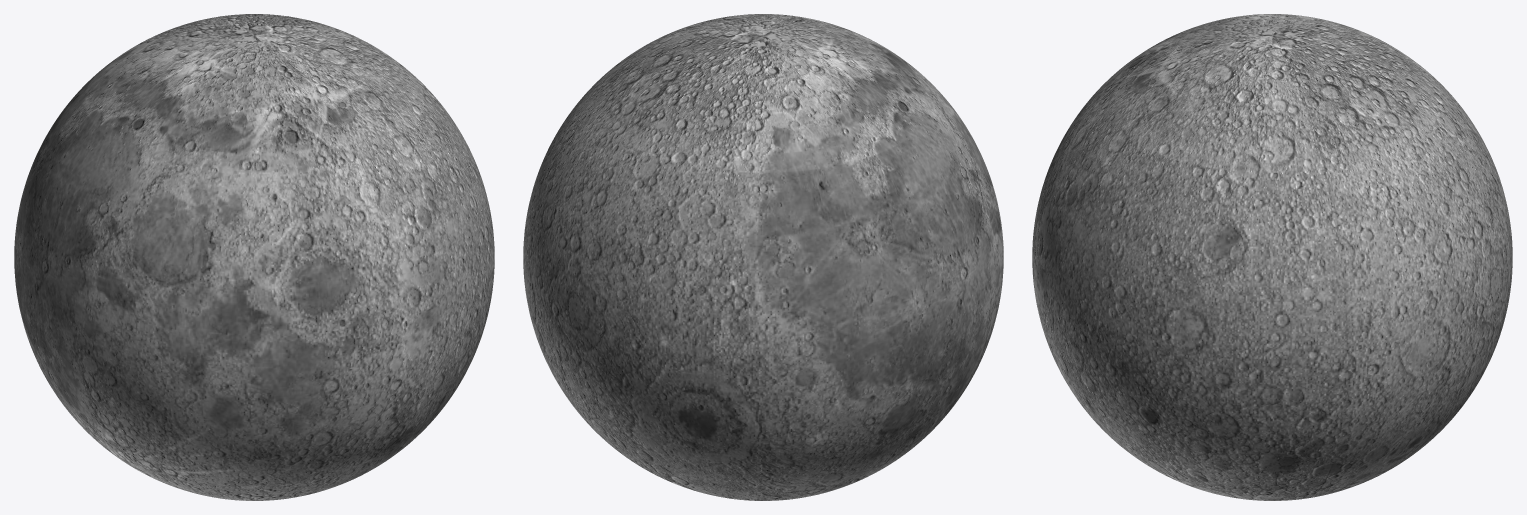
File: Moon.fbx
The picture shows the model from 3 angles, left to right: view 1: azimuth 30°, elevation 25°; view 2: azimuth 150°, elevation 25°; view 3: azimuth 270°, elevation 25°; orthographic projection.
Parts seen in each view (by area): view 1: pSphere1; view 2: pSphere1; view 3: pSphere1.
Part boxes in pixels (x1,y1,x2,y2): pSphere1: [14, 14, 494, 500]; pSphere1: [523, 14, 1003, 500]; pSphere1: [1032, 14, 1512, 500].
Bounding box in the file's own units: 15.8 × 16.09 × 15.8.
Materials: 1 (1 with a texture image).
